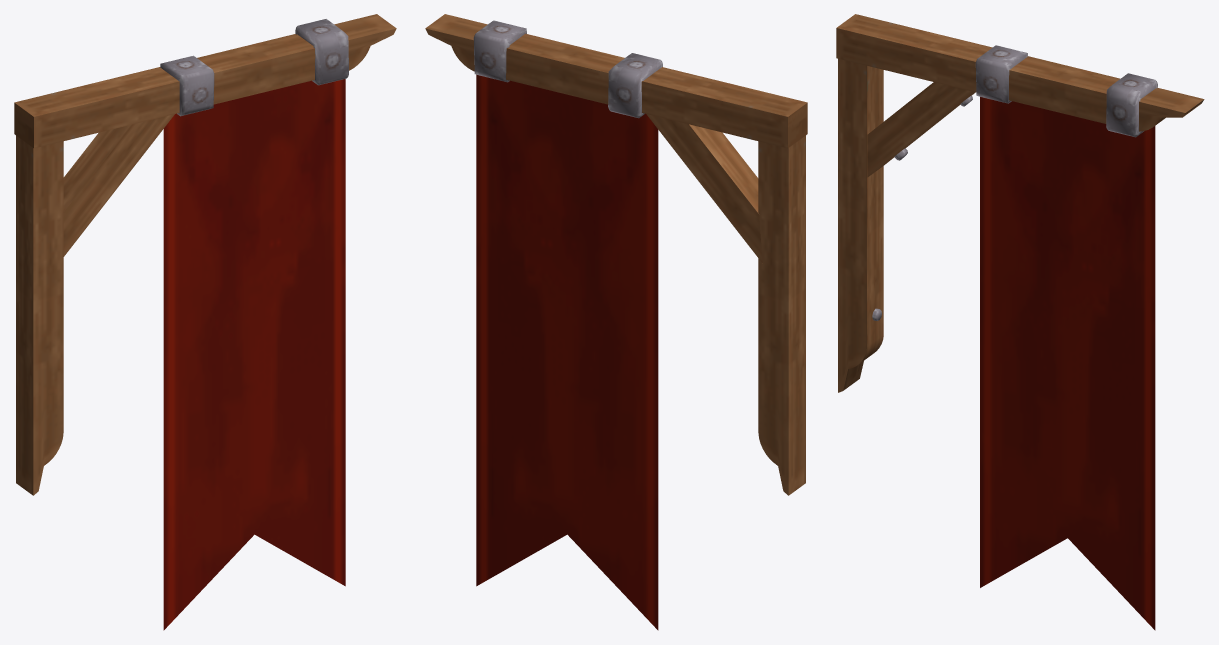
File: Banner_1.glb
3 views of the same model, side by side, from view 1: azimuth 30°, elevation 25°; view 2: azimuth 150°, elevation 25°; view 3: azimuth 330°, elevation 25° (orthographic). The views are drawn at different scales.
Visible parts, largest first — view 1: Banner_1; view 2: Banner_1; view 3: Banner_1.
Boxes of the visible parts, box(x1,y1,x2,y2) form: Banner_1: box(14, 14, 396, 630); Banner_1: box(425, 14, 807, 630); Banner_1: box(836, 14, 1204, 630).
Size of the model in its own units: 1.61 by 2.39 by 0.1907.
3 materials, 3 textured.
